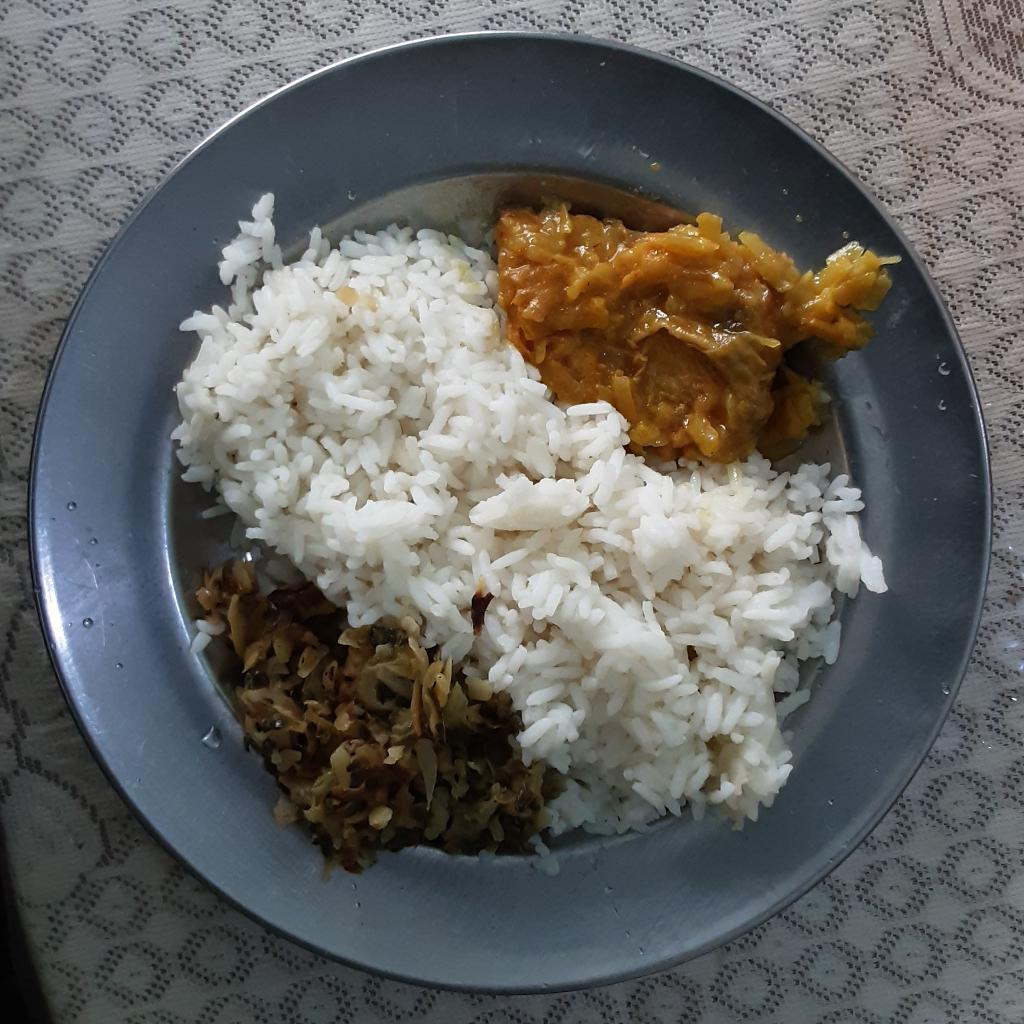korola-vaji: (188, 556, 429, 871), (453, 668, 559, 856)
kumra-vaji: (492, 208, 891, 459)
potato: (402, 637, 472, 841), (326, 624, 410, 783)
rice: (175, 197, 881, 875)
